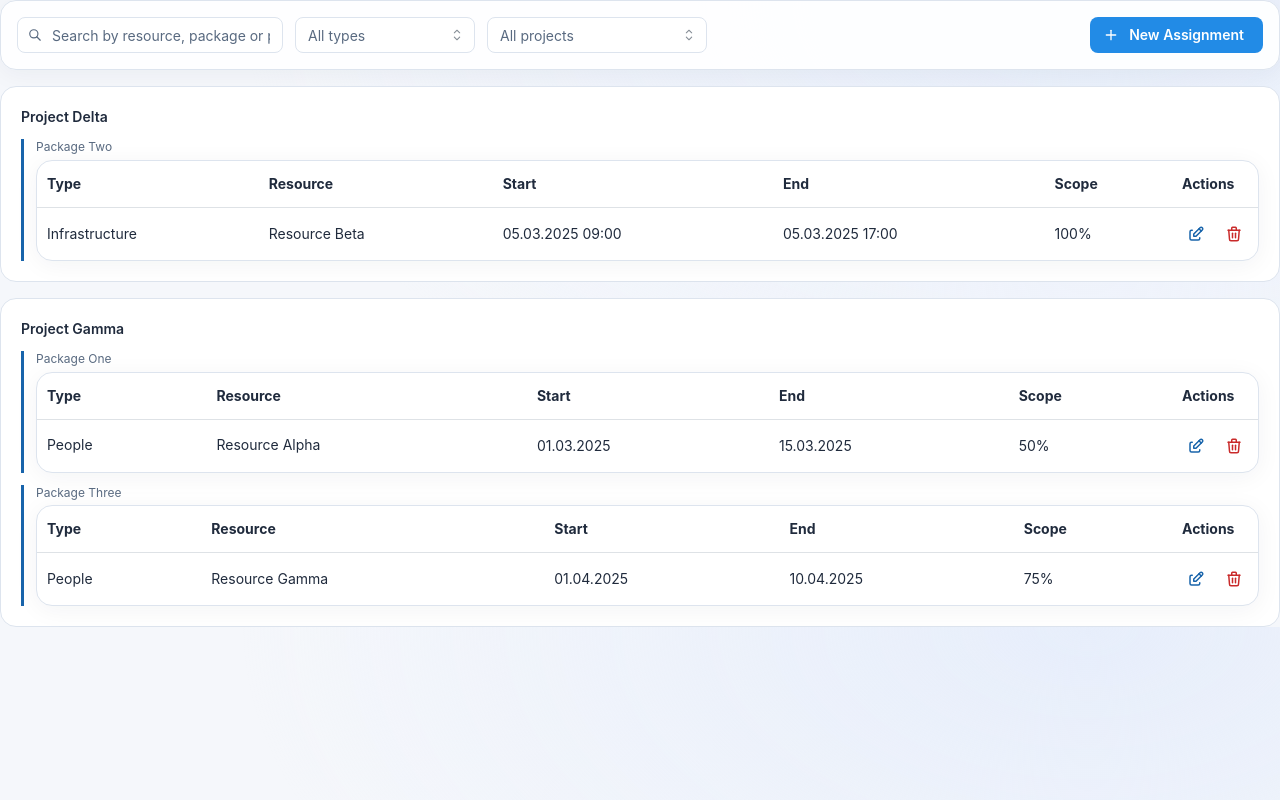
Test: AssignmentsPanel › Filtering by search text (Requirement 5.3) › filters by resource name
This screenshot has width=1280, height=800.
Expected: the text "Resource Alpha" is shown, [216,435,320,456]
In the field with placeholder "Search by resource, package or project...": (150, 35) [17,17,283,53], type "Alpha"
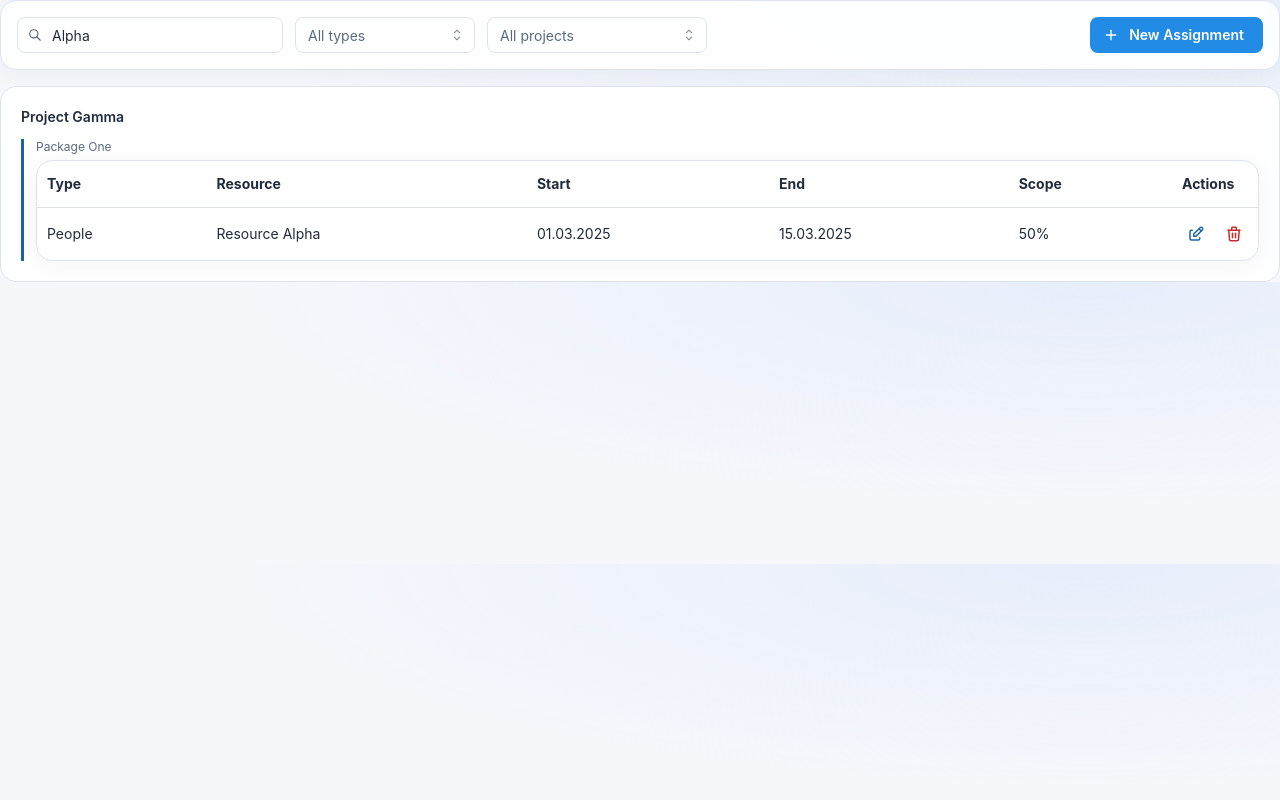
Expected: the text "Resource Alpha" is shown, [216,224,320,244]
Expected: the text "Resource Beta" is gone
Expected: the text "Resource Gamma" is gone
